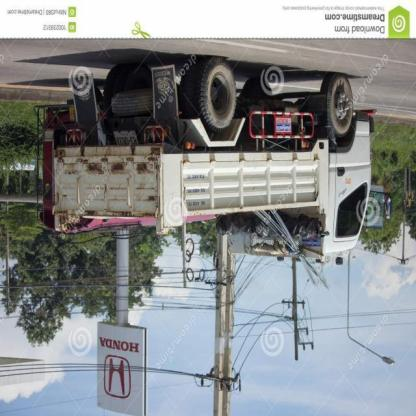truck: (38, 59, 377, 290)
